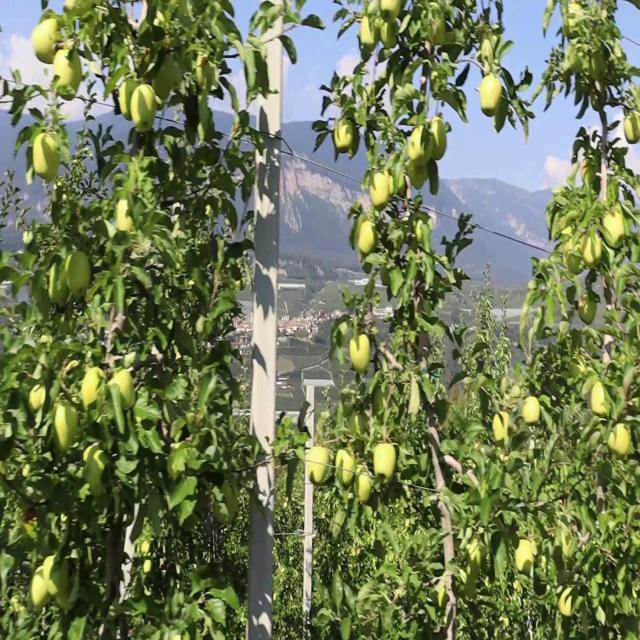apple: (32, 135, 62, 185), (152, 56, 182, 105), (56, 49, 84, 101), (32, 14, 59, 64), (68, 248, 93, 302), (132, 85, 158, 135), (84, 447, 109, 498), (56, 405, 80, 453), (108, 369, 135, 409), (152, 63, 176, 107), (216, 483, 240, 526), (48, 263, 70, 308), (480, 78, 504, 119), (196, 56, 220, 94), (604, 206, 625, 249), (84, 447, 108, 484), (376, 440, 397, 482), (428, 120, 448, 164), (84, 369, 104, 412), (36, 561, 56, 604), (408, 127, 431, 164), (516, 540, 539, 576), (352, 334, 372, 375), (608, 426, 632, 460), (308, 447, 330, 484), (116, 199, 137, 236), (360, 14, 380, 50), (388, 163, 408, 199), (584, 234, 604, 270), (592, 383, 611, 420), (336, 447, 355, 484), (32, 568, 50, 606), (564, 7, 584, 41), (336, 120, 355, 155), (380, 21, 401, 52), (372, 170, 388, 210), (492, 99, 509, 135), (492, 412, 511, 443), (120, 78, 133, 123), (28, 383, 48, 412), (360, 220, 376, 256), (592, 49, 609, 82), (436, 575, 451, 612), (380, 0, 404, 23), (68, 1, 91, 25), (408, 163, 427, 192), (432, 14, 448, 48), (416, 213, 433, 245), (128, 7, 148, 34), (624, 113, 640, 146), (464, 533, 481, 564), (44, 554, 56, 596), (524, 398, 541, 427), (580, 298, 597, 327), (356, 476, 373, 505), (428, 163, 440, 197), (352, 412, 368, 436), (560, 590, 573, 619), (444, 540, 457, 569), (356, 455, 371, 476), (372, 15, 381, 50), (348, 135, 360, 158), (512, 383, 525, 404), (320, 412, 332, 432), (352, 227, 360, 252)
